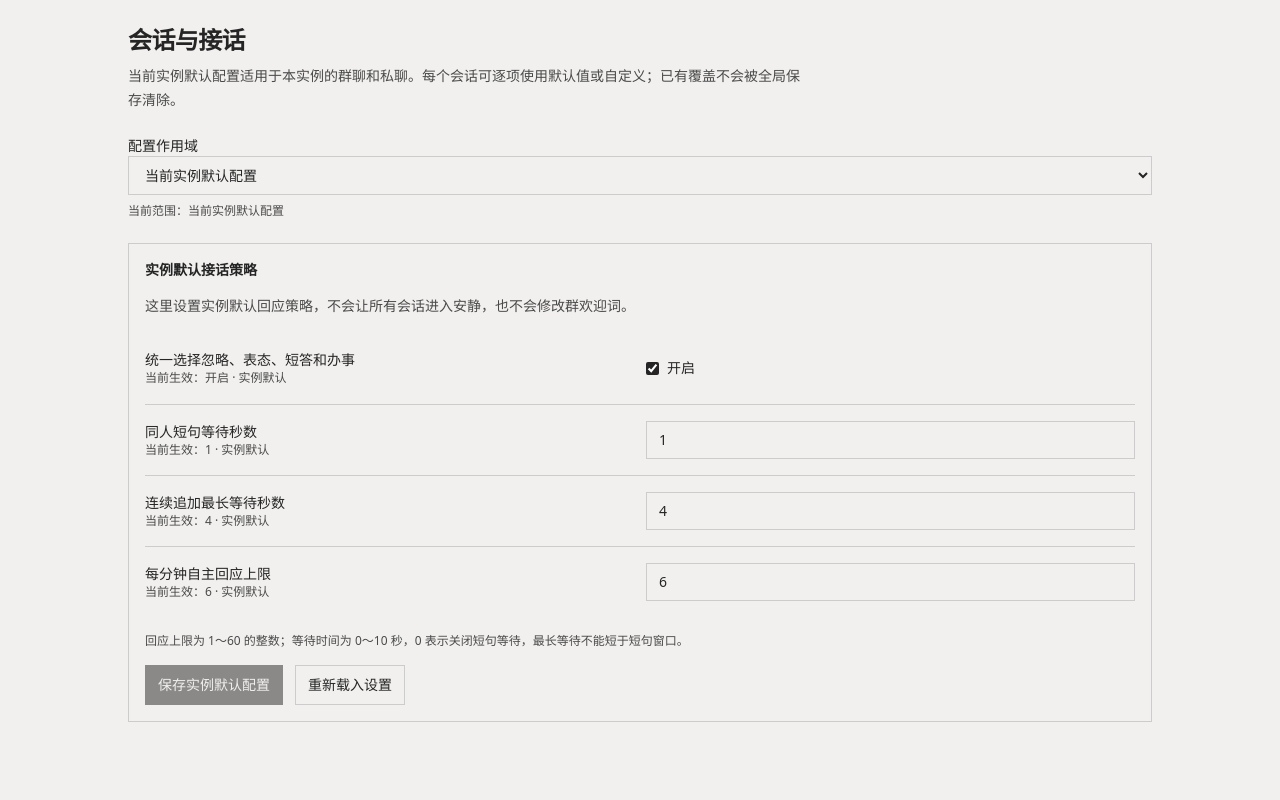
实例默认与逐项继承的读写合同 › 实例保存只提交改动的策略，不带scope/欢迎词；false与0均保留
This screenshot has width=1280, height=800.
Click the checkbox labelled "统一选择忽略、表态、短答和办事" at x=652, y=368, box left=646, top=362, right=659, bottom=374
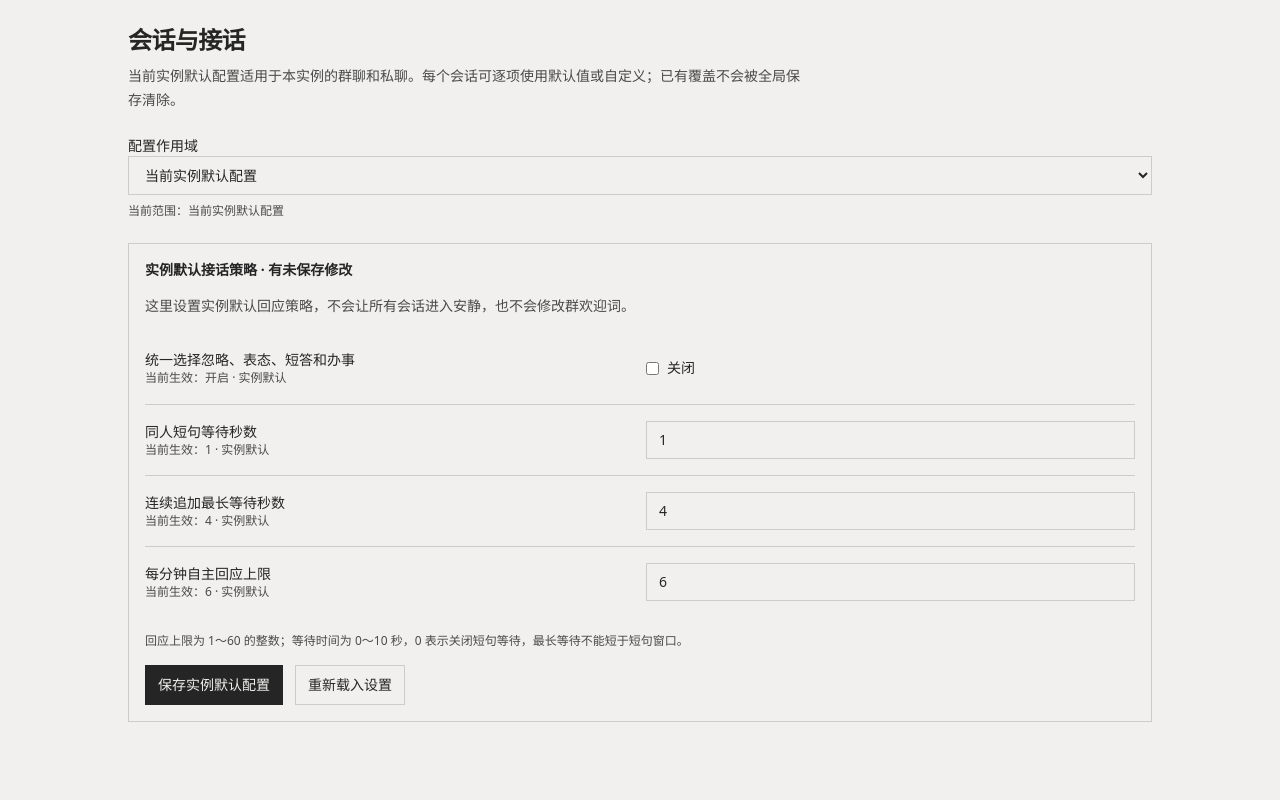
Replace the text in the field labelled "同人短句等待秒数" with "0" at x=890, y=440, box left=646, top=421, right=1135, bottom=459
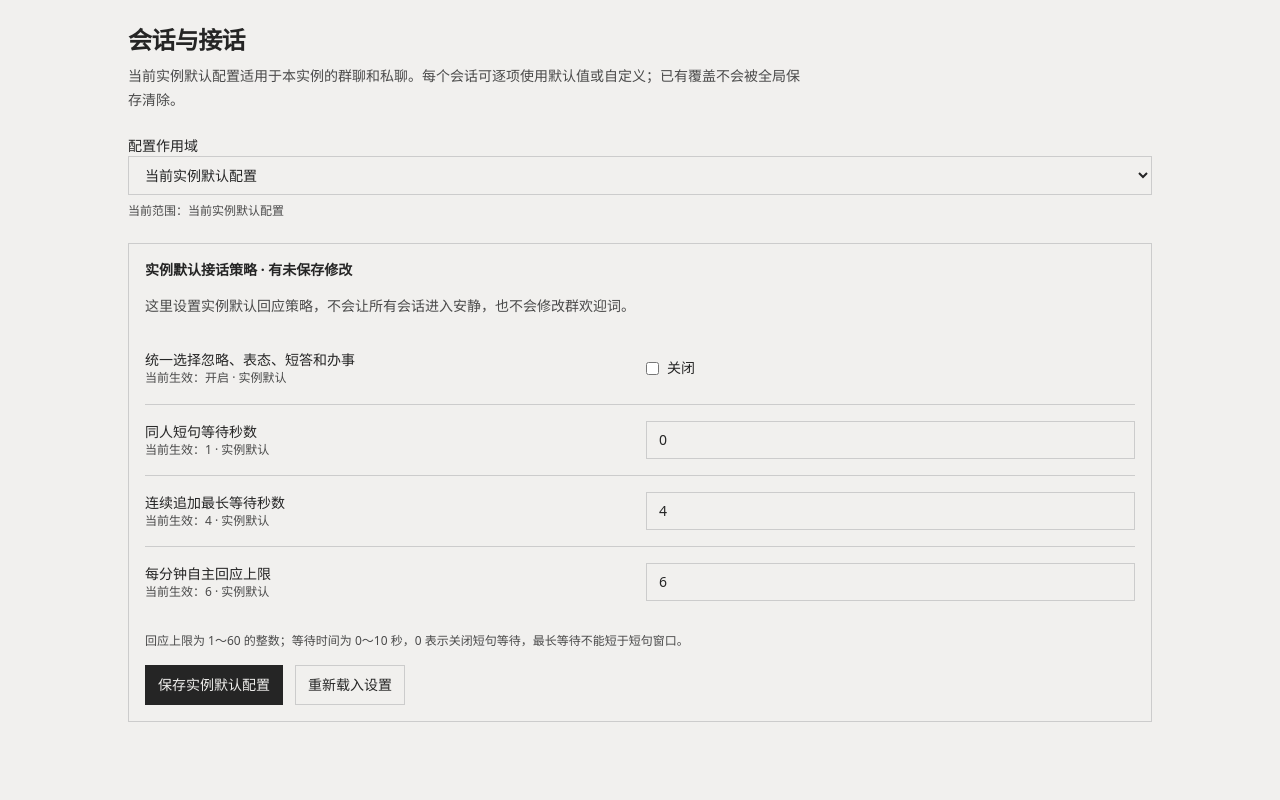
Click the button "保存实例默认配置" at x=214, y=685, box left=145, top=665, right=283, bottom=705
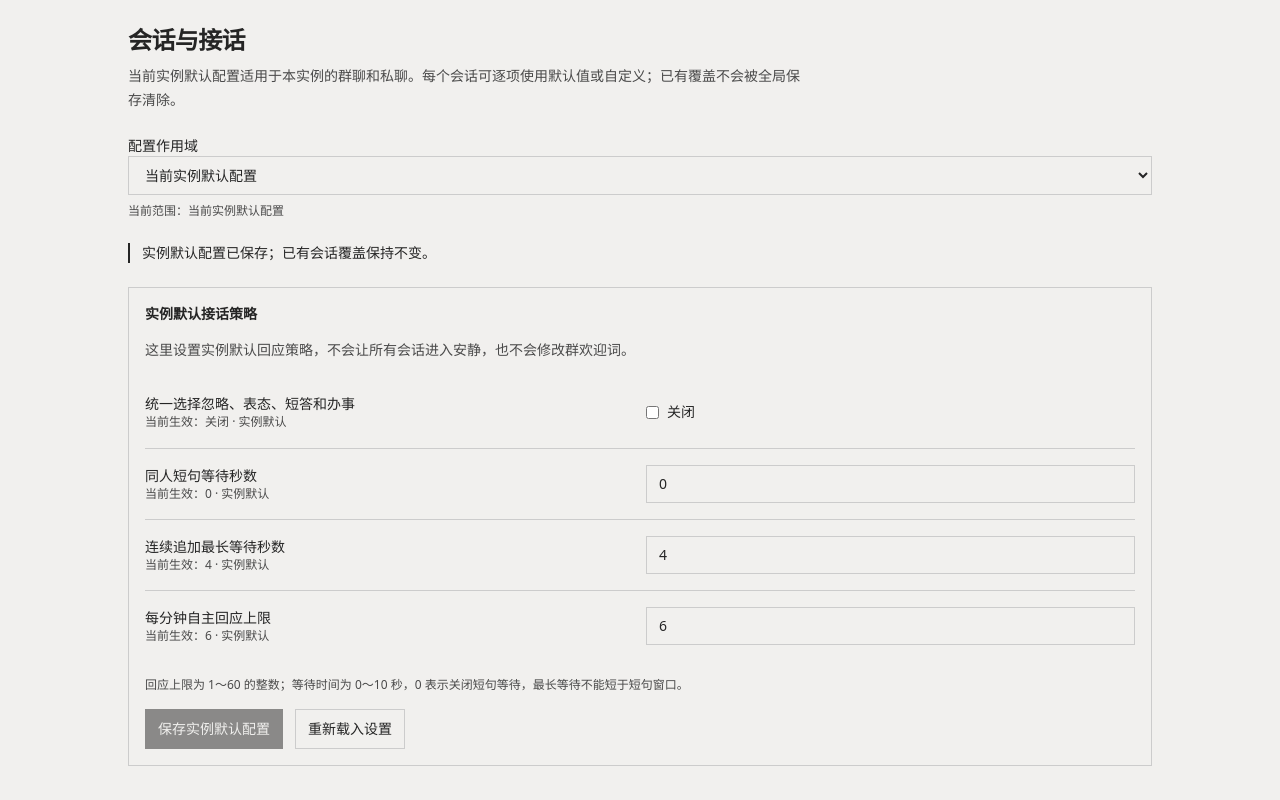
Now the text "实例默认配置已保存；已有会话覆盖保持不变。" is shown, box left=128, top=243, right=1152, bottom=263
